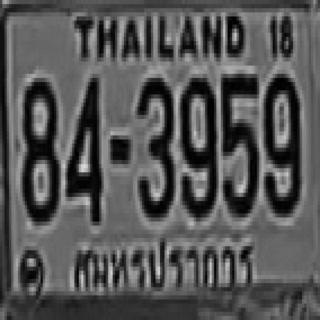N03: (135, 74, 171, 218)
N04: (67, 74, 100, 222)
N05: (221, 70, 257, 213)
N08: (20, 74, 56, 222)
N09: (179, 74, 215, 218), (262, 70, 298, 213)
P57: (68, 236, 261, 301)
